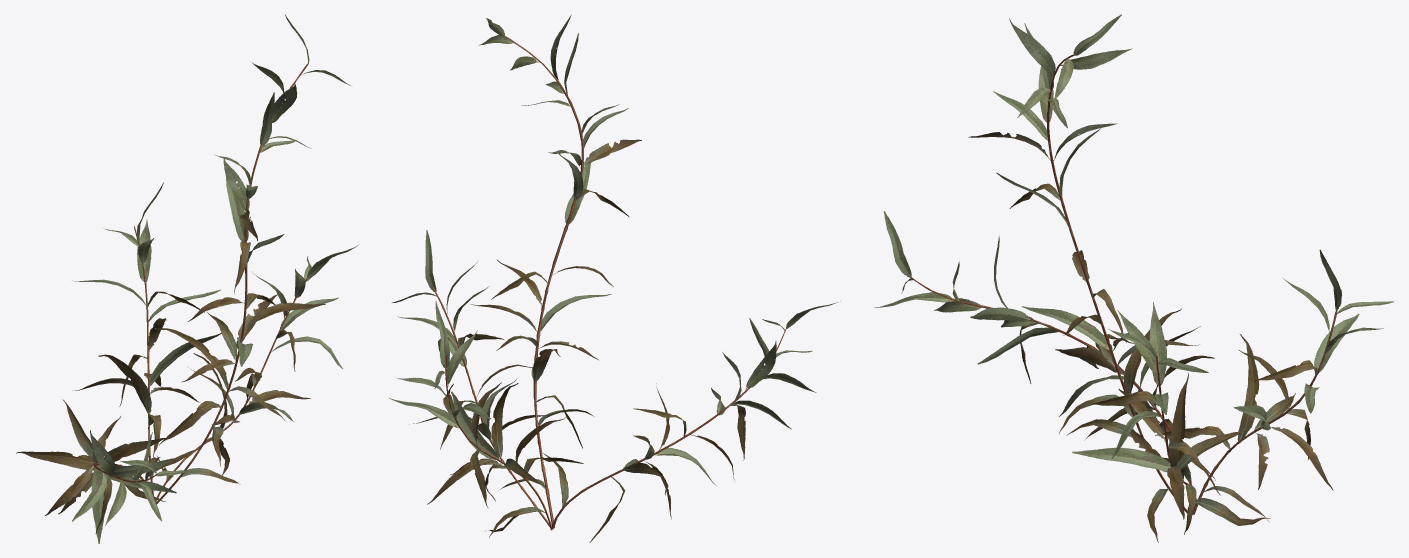
3 views of the same model, side by side, from view 1: azimuth 30°, elevation 25°; view 2: azimuth 150°, elevation 25°; view 3: azimuth 270°, elevation 25° (orthographic). The views are drawn at different scales.
Visible parts, largest first — view 1: shrub_02_b; view 2: shrub_02_b; view 3: shrub_02_b.
Boxes of the visible parts, <box> form: shrub_02_b: <box>16,14,358,543</box>; shrub_02_b: <box>389,15,840,542</box>; shrub_02_b: <box>874,14,1394,542</box>.
Bounding box in the file's own units: 1.11 × 1.51 × 1.28.
1 material, 1 textured.
